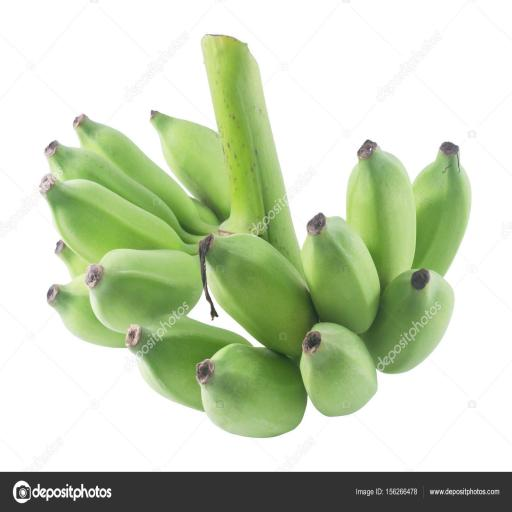banana-unripe: (4, 15, 498, 443)
